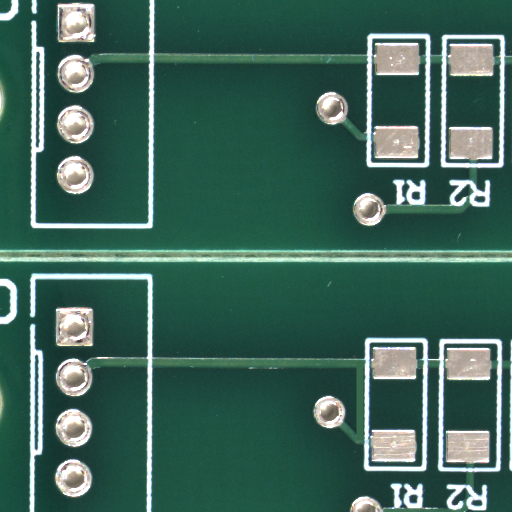Short: (359, 401, 372, 477)
